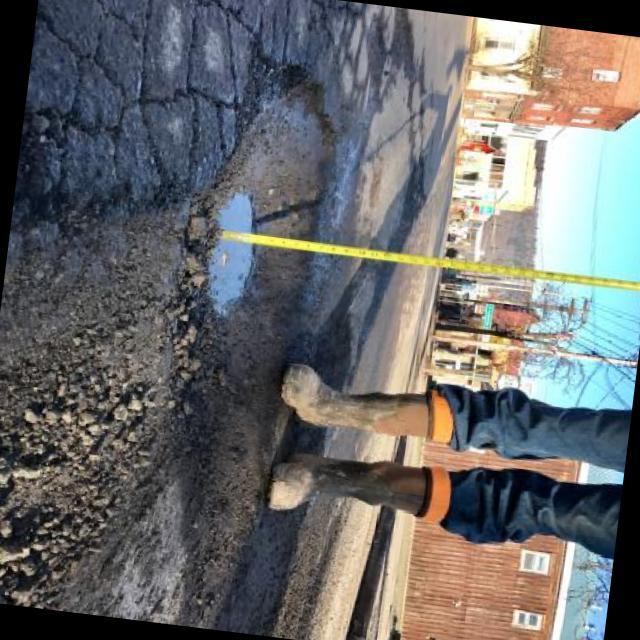pothole: (162, 79, 358, 390)
